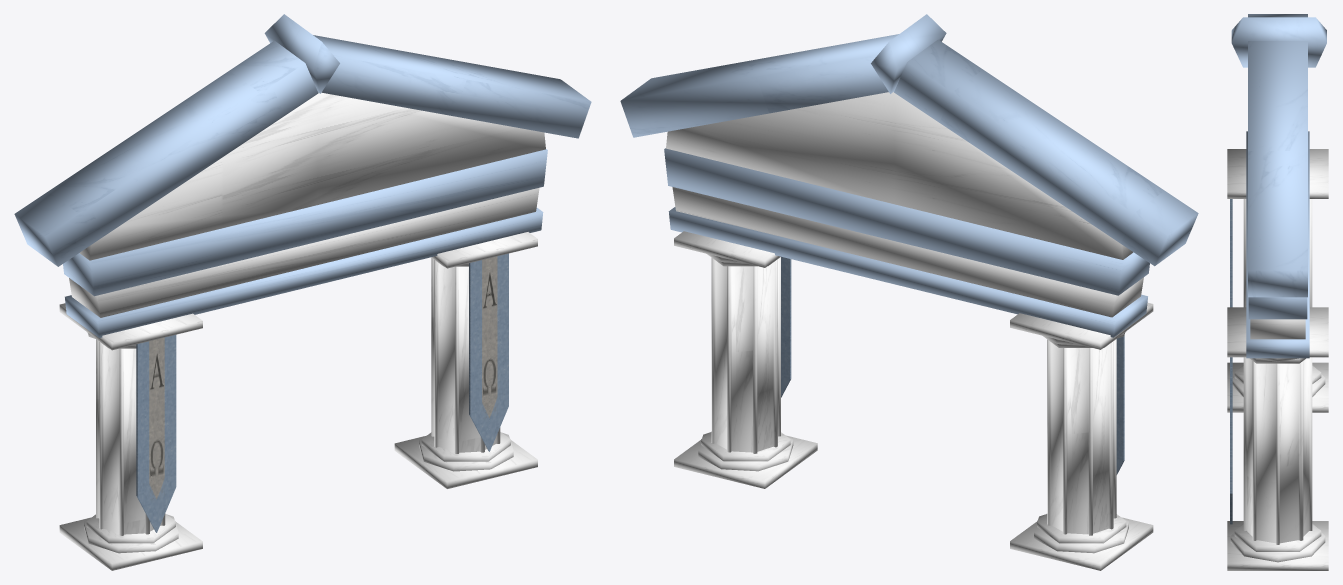
Rendered from PillarsGate.fbx.
3 renders of one model, left to right at view 1: azimuth 30°, elevation 25°; view 2: azimuth 150°, elevation 25°; view 3: azimuth 270°, elevation 25°, orthographic. The views are drawn at different scales.
Parts seen in each view (by area): view 1: Cube.041; view 2: Cube.041; view 3: Cube.041.
Part boxes in pixels (bbox=[...]): Cube.041: bbox=[14, 14, 591, 570]; Cube.041: bbox=[620, 14, 1198, 570]; Cube.041: bbox=[1227, 14, 1328, 570].
Bounding box in the file's own units: 1923 × 1582 × 320.
